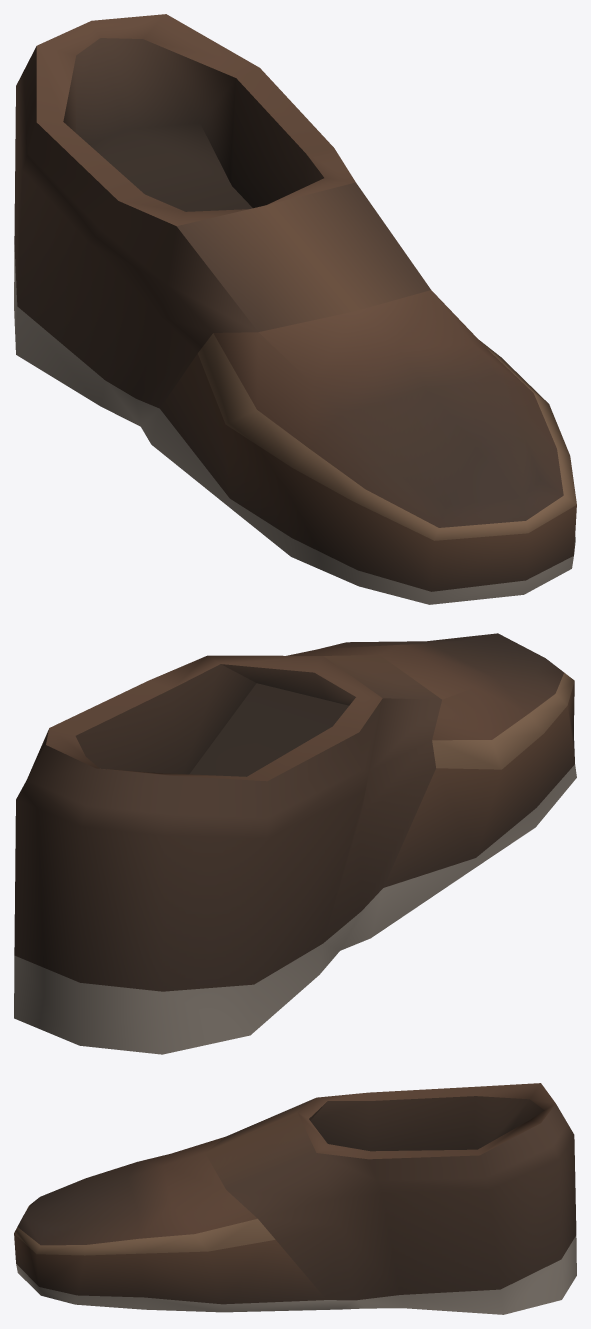
The model's file is human-clothing-loafer_v1.glb.
3 views of the same model, one above another, from view 1: azimuth 30°, elevation 25°; view 2: azimuth 150°, elevation 25°; view 3: azimuth 270°, elevation 25° (orthographic). The views are drawn at different scales.
Parts seen in each view (by area): view 1: Loafer; view 2: Loafer; view 3: Loafer.
Part boxes in pixels (<box>): Loafer: <box>14,14,576,604</box>; Loafer: <box>14,633,576,1054</box>; Loafer: <box>14,1083,576,1314</box>.
Bounding box in the file's own units: 0.1001 × 0.0955 × 0.28.
